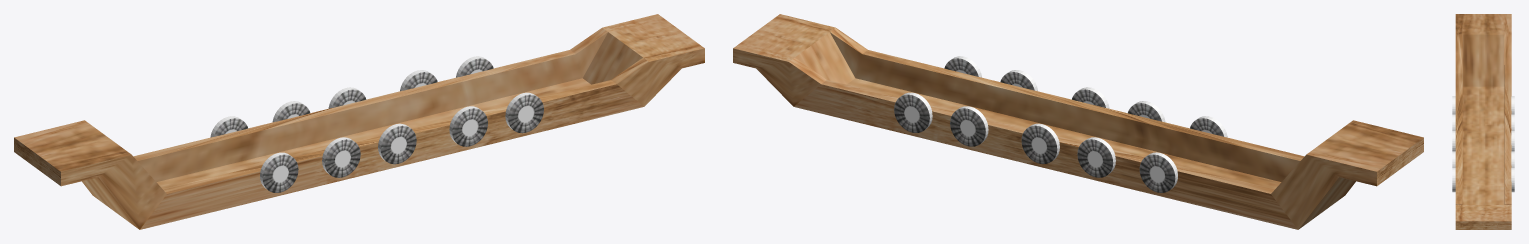
File: war_canoe.dae
The picture shows the model from 3 angles, left to right: view 1: azimuth 30°, elevation 25°; view 2: azimuth 150°, elevation 25°; view 3: azimuth 270°, elevation 25°; orthographic projection. The views are drawn at different scales.
Visible parts, largest first — view 1: warcanoe; view 2: warcanoe; view 3: warcanoe.
Part boxes in pixels (x1=…): warcanoe: x1=14, y1=14, x2=704, y2=229; warcanoe: x1=733, y1=14, x2=1423, y2=229; warcanoe: x1=1452, y1=14, x2=1514, y2=229.
Bounding box in the file's own units: 9.57 × 1.35 × 1.1.
